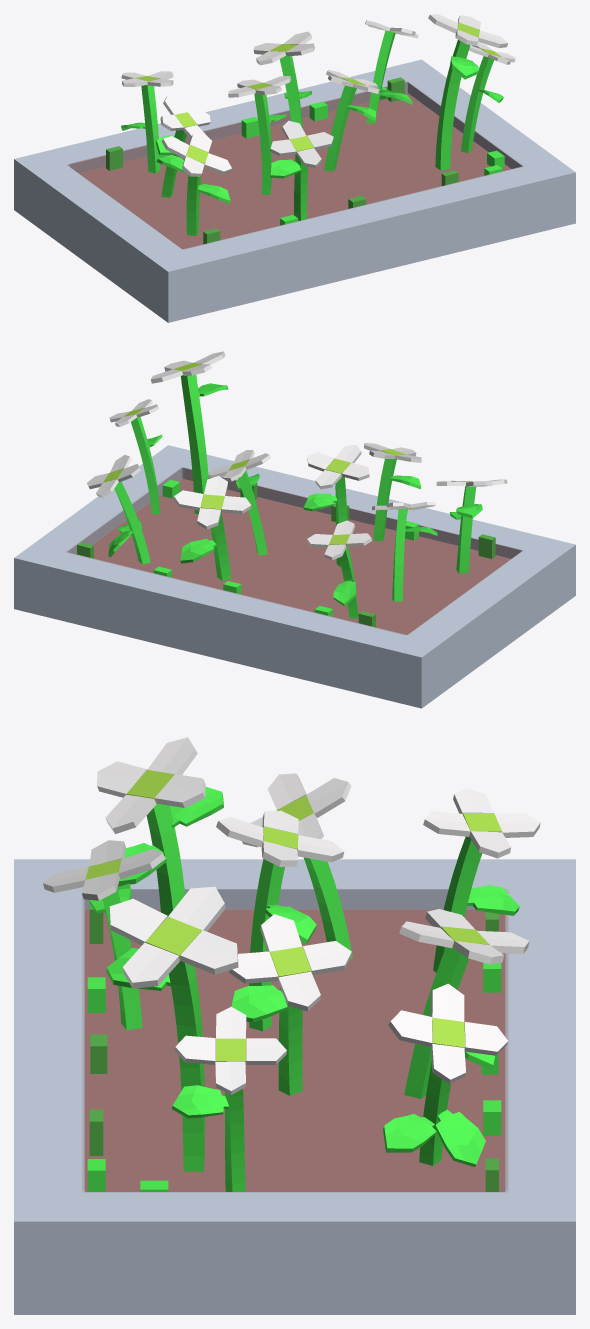
Rendered from Cvetochki.fbx.
The picture shows the model from 3 angles, top to bottom: view 1: azimuth 30°, elevation 25°; view 2: azimuth 150°, elevation 25°; view 3: azimuth 270°, elevation 25°; orthographic projection. The views are drawn at different scales.
Parts seen in each view (by area): view 1: Clumba, Stebel, Stebel.002, Stebel.010, Stebel.006, Stebel.004, Stebel.003, Stebel.005, Stebel.008, Stebel.007, ListikNaSteble.007, Stebel.009 (+3 smaller); view 2: Clumba, Stebel, Stebel.002, Stebel.009, Stebel.008, Stebel.003, Stebel.007, Stebel.004, Stebel.005, ListikNaSteble.005, Stebel.006, Stebel.010 (+3 smaller); view 3: Clumba, Stebel, Stebel.008, Stebel.005, Stebel.009, Stebel.004, Stebel.002, Stebel.010, ListikNaSteble.011, Stebel.006, ListikRight, ListikLeft (+48 smaller).
Part boxes in pixels (left/top/right/bottom): Clumba: left=14, top=59, right=575, bottom=322; Stebel: left=435, top=40, right=470, bottom=170; Stebel.002: left=461, top=56, right=493, bottom=152; Stebel.010: left=254, top=93, right=271, bottom=194; Stebel.006: left=141, top=84, right=160, bottom=173; Stebel.004: left=324, top=85, right=356, bottom=171; Stebel.003: left=366, top=30, right=395, bottom=123; Stebel.005: left=279, top=56, right=302, bottom=128; Stebel.008: left=186, top=175, right=201, bottom=235; Stebel.007: left=294, top=154, right=307, bottom=220; ListikNaSteble.007: left=270, top=159, right=301, bottom=178; Stebel.009: left=161, top=130, right=186, bottom=197; Clumba: left=14, top=445, right=575, bottom=708; Stebel: left=180, top=375, right=208, bottom=514; Stebel.002: left=131, top=417, right=159, bottom=514; Stebel.009: left=392, top=509, right=407, bottom=601; Stebel.008: left=456, top=486, right=476, bottom=573; Stebel.003: left=114, top=481, right=150, bottom=564; Stebel.007: left=373, top=459, right=396, bottom=541; Stebel.004: left=238, top=470, right=267, bottom=555; Stebel.005: left=211, top=512, right=231, bottom=580; ListikNaSteble.005: left=180, top=538, right=216, bottom=563; Stebel.006: left=339, top=546, right=358, bottom=618; Stebel.010: left=335, top=476, right=347, bottom=567; Clumba: left=14, top=859, right=575, bottom=1314; Stebel: left=168, top=961, right=204, bottom=1171; Stebel.008: left=146, top=803, right=185, bottom=916; Stebel.005: left=404, top=947, right=468, bottom=1098; Stebel.009: left=304, top=857, right=352, bottom=959; Stebel.004: left=278, top=987, right=302, bottom=1095; Stebel.002: left=225, top=1089, right=245, bottom=1191; Stebel.010: left=249, top=859, right=284, bottom=1031; ListikNaSteble.011: left=434, top=1110, right=485, bottom=1166; Stebel.006: left=433, top=836, right=482, bottom=972; ListikRight: left=180, top=930, right=238, bottom=974; ListikLeft: left=109, top=898, right=167, bottom=945.
Size of the model in its own units: 100 by 45.83 by 65.58.
